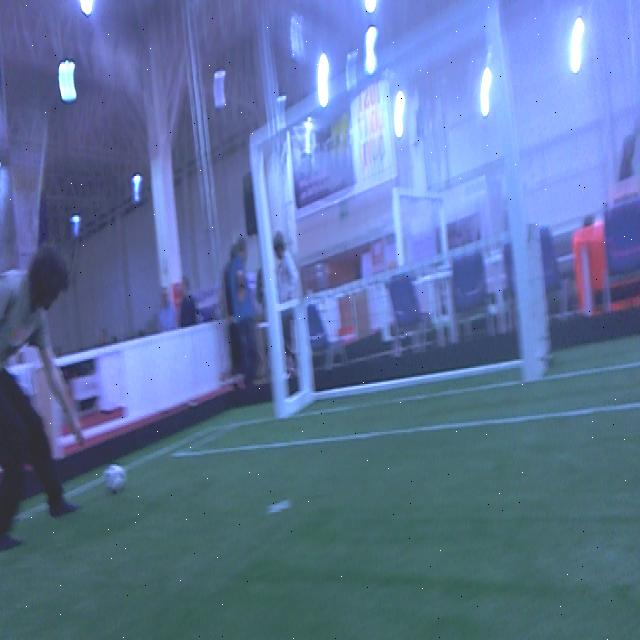ball: (106, 464, 127, 496)
goalpost: (480, 5, 539, 377), (247, 132, 287, 418)
